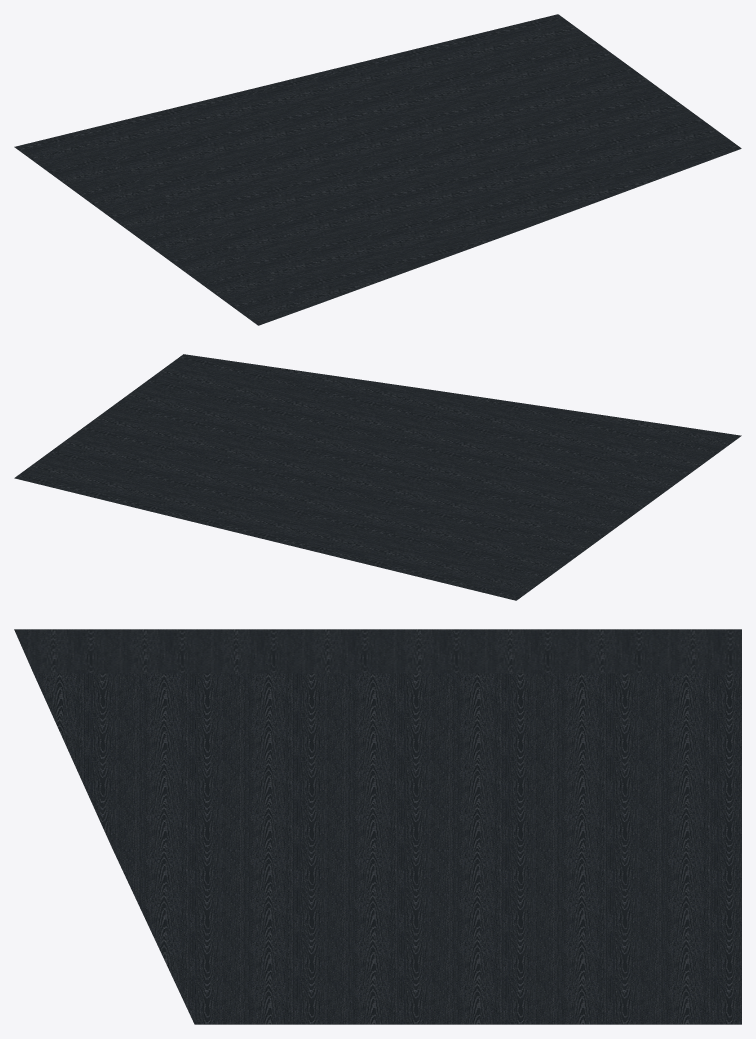
Rendered from GYM_Ceiling_6.fbx.
3 views of the same model, one above another, from view 1: azimuth 30°, elevation 25°; view 2: azimuth 150°, elevation 25°; view 3: azimuth 270°, elevation 25° (orthographic). The views are drawn at different scales.
Parts seen in each view (by area): view 1: GYM_Ceiling_Panel_2; view 2: GYM_Ceiling_Panel_2; view 3: GYM_Ceiling_Panel_2.
Part boxes in pixels (x1,y1,x2,y2): GYM_Ceiling_Panel_2: (14, 14, 741, 325); GYM_Ceiling_Panel_2: (14, 354, 741, 600); GYM_Ceiling_Panel_2: (14, 629, 741, 1024).
Size of the model in its own units: 4.5 by 8.88e-16 by 3.5.
Materials: 1 (1 with a texture image).
